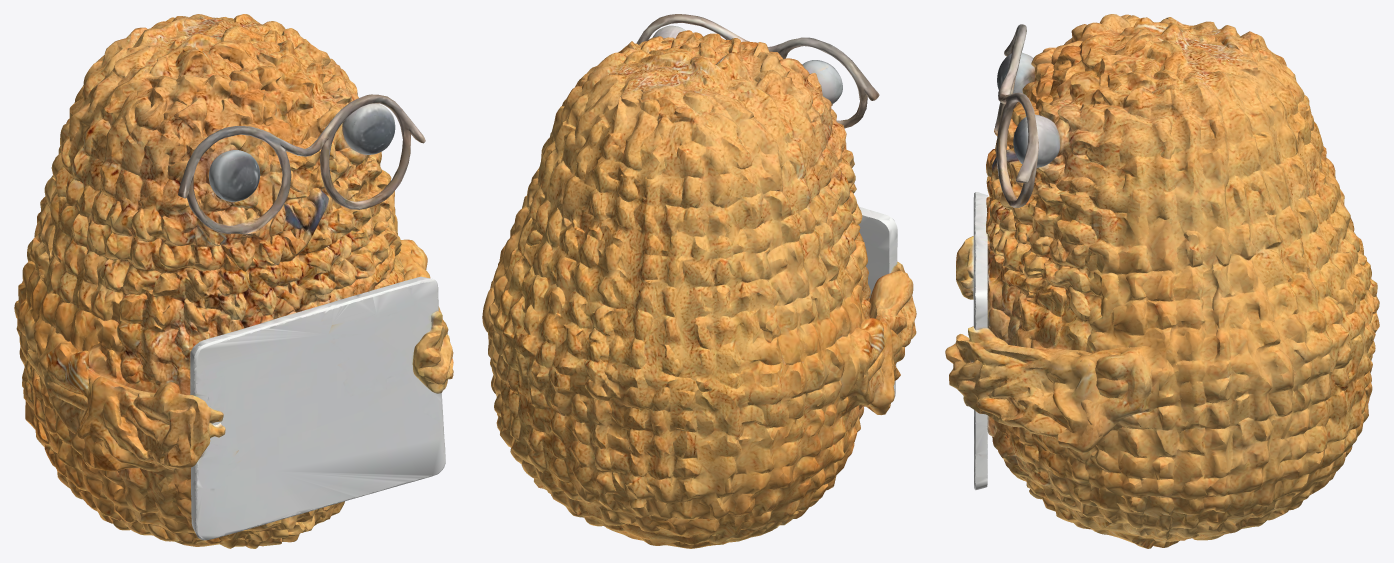
The model's file is spud-pbr.glb.
The picture shows the model from 3 angles, left to right: view 1: azimuth 30°, elevation 25°; view 2: azimuth 150°, elevation 25°; view 3: azimuth 270°, elevation 25°; orthographic projection. The views are drawn at different scales.
Visible parts, largest first — view 1: root.0, root.1, root.3, root.2, root.4, root.5; view 2: root.0, root.3, root.1, root.5; view 3: root.0, root.2, root.1, root.4, root.3, root.5.
Part boxes in pixels (<box>): root.0: <box>14,14,427,548</box>; root.1: <box>190,276,445,540</box>; root.3: <box>77,376,225,471</box>; root.2: <box>404,268,453,393</box>; root.4: <box>342,103,395,154</box>; root.5: <box>209,150,260,201</box>; root.0: <box>482,14,894,548</box>; root.3: <box>866,261,916,412</box>; root.1: <box>858,206,897,396</box>; root.5: <box>802,60,842,104</box>; root.0: <box>986,14,1379,548</box>; root.2: <box>945,326,1103,452</box>; root.1: <box>973,192,987,490</box>; root.4: <box>1013,114,1060,167</box>; root.3: <box>956,236,973,299</box>; root.5: <box>997,52,1034,101</box>.
Size of the model in its own units: 1.47 by 1.9 by 1.52.
6 materials, 6 textured.
